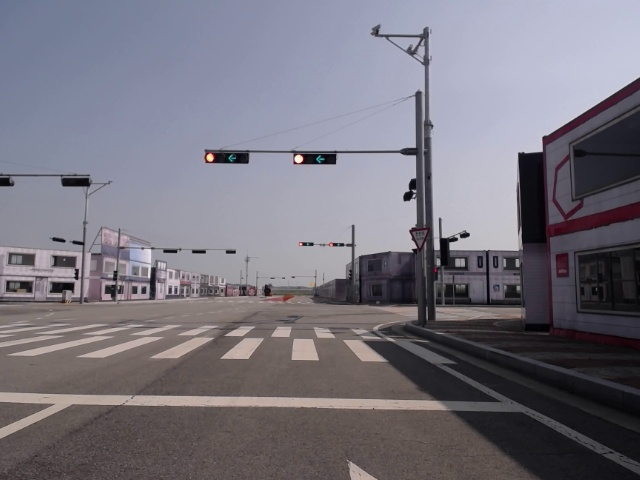left_green_4: (205, 152, 249, 164), (293, 154, 336, 165)
